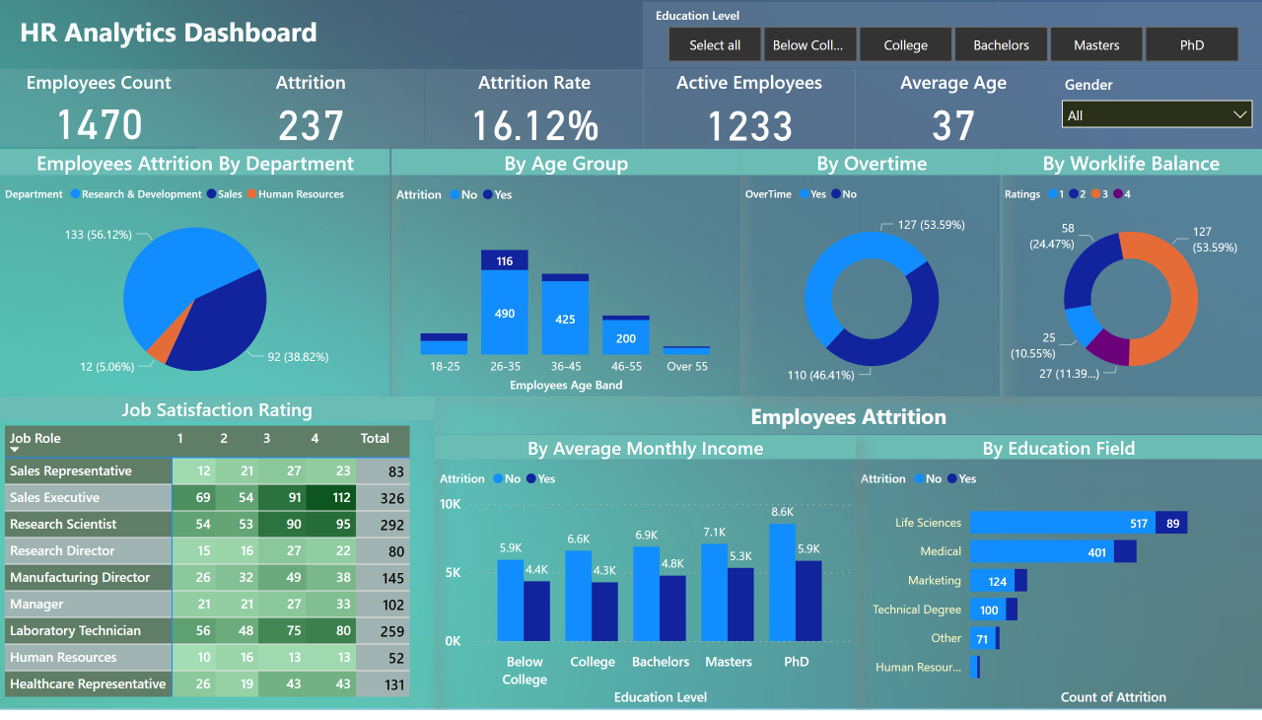

The dashboard page shown, as its layout file describes it:
{"tool":"powerbi","page":{"name":"Page 1","canvas":[1280,720],"ordinal":0},"visuals":[{"type":"card","title":"Employees Count","fields":{"Values":["CountNonNull(WA_Fn-UseC_-HR-Employee-Attrition-clean.Gender)"]},"box":[0,69.9,200.2,78.4],"z":0},{"type":"card","title":"Attrition","fields":{"Values":["Sum(WA_Fn-UseC_-HR-Employee-Attrition-clean.Attrition Count)"]},"box":[200.2,69.9,230.4,80.8],"z":1000},{"type":"card","title":"Attrition Rate","fields":{"Values":["WA_Fn-UseC_-HR-Employee-Attrition-clean.Attrition Rate"]},"box":[430.6,69.9,221.9,80.8],"z":2000},{"type":"card","title":"Active Employees ","fields":{"Values":["WA_Fn-UseC_-HR-Employee-Attrition-clean.Active Employees"]},"box":[652.5,69.9,215.9,82],"z":3000},{"type":"card","title":"Average Age","fields":{"Values":["Avg(WA_Fn-UseC_-HR-Employee-Attrition-clean.Age)"]},"box":[867.1,69.9,200.2,80.8],"z":4000},{"type":"pieChart","title":"Employees Attrition By Department","fields":{"Category":["WA_Fn-UseC_-HR-Employee-Attrition-clean.Department"],"Y":["Sum(WA_Fn-UseC_-HR-Employee-Attrition-clean.Attrition Count)"],"Series":["WA_Fn-UseC_-HR-Employee-Attrition-clean.Department"]},"box":[0,151.1,395.6,251.4],"z":5000},{"type":"columnChart","title":"By Age Group","fields":{"Y":["Sum(WA_Fn-UseC_-HR-Employee-Attrition-clean.Employees Count)"],"Category":["WA_Fn-UseC_-HR-Employee-Attrition-clean.Employees Age Band"],"Series":["WA_Fn-UseC_-HR-Employee-Attrition-clean.Attrition"]},"box":[397,151.1,354.4,251.4],"z":6000},{"type":"pivotTable","title":"Job Satisfaction Rating","fields":{"Values":["Sum(WA_Fn-UseC_-HR-Employee-Attrition-clean.Employees Count)"],"Rows":["WA_Fn-UseC_-HR-Employee-Attrition-clean.JobRole"],"Columns":["WA_Fn-UseC_-HR-Employee-Attrition-clean.JobSatisfaction"]},"box":[0,402.5,441,317.3],"z":7000},{"type":"barChart","title":"By Education Field","fields":{"Category":["WA_Fn-UseC_-HR-Employee-Attrition-clean.EducationField"],"Series":["WA_Fn-UseC_-HR-Employee-Attrition-clean.Attrition"],"Y":["CountNonNull(WA_Fn-UseC_-HR-Employee-Attrition-clean.Attrition)"]},"box":[868.2,441,412.1,278.9],"z":8000},{"type":"textbox","box":[441,402.5,839.3,38.5],"z":9000},{"type":"textbox","box":[15,7.5,343.8,51.2],"z":10000},{"type":"slicer","title":"Education","fields":{"Values":["WA_Fn-UseC_-HR-Employee-Attrition-clean.Education Level"]},"box":[652.5,2.4,628.3,67.5],"z":11000},{"type":"clusteredColumnChart","title":"By Average Monthly Income","fields":{"Category":["WA_Fn-UseC_-HR-Employee-Attrition-clean.Education Level"],"Y":["Avg(WA_Fn-UseC_-HR-Employee-Attrition-clean.MonthlyIncome)"],"Series":["WA_Fn-UseC_-HR-Employee-Attrition-clean.Attrition"]},"box":[441,441,427.2,278.9],"z":12000},{"type":"slicer","title":"Average Age","fields":{"Values":["WA_Fn-UseC_-HR-Employee-Attrition-clean.Gender"]},"box":[1067.3,69.9,213.5,80.8],"z":13000},{"type":"donutChart","title":"By Overtime","fields":{"Category":["WA_Fn-UseC_-HR-Employee-Attrition-clean.OverTime"],"Y":["Sum(WA_Fn-UseC_-HR-Employee-Attrition-clean.Attrition Count)"],"Series":["WA_Fn-UseC_-HR-Employee-Attrition-clean.OverTime"]},"box":[751.4,150.8,266.5,250.9],"z":14000},{"type":"donutChart","title":"By Worklife Balance","fields":{"Category":["WA_Fn-UseC_-HR-Employee-Attrition-clean.WorkLifeBalance"],"Y":["Sum(WA_Fn-UseC_-HR-Employee-Attrition-clean.Attrition Count)"]},"box":[1014.3,150.8,266.5,250.9],"z":14001}]}

Visuals, with their boxes in screenshot pixels (x1, y1, x2, y2), scaled from the page's 1280x720 canvas onto the 1262x720 screenshot:
"Employees Count" card: crop(0, 70, 197, 148)
"Attrition" card: crop(197, 70, 425, 151)
"Attrition Rate" card: crop(425, 70, 643, 151)
"Active Employees " card: crop(643, 70, 856, 152)
"Average Age" card: crop(855, 70, 1052, 151)
"Employees Attrition By Department" pieChart: crop(0, 151, 390, 402)
"By Age Group" columnChart: crop(391, 151, 741, 402)
"Job Satisfaction Rating" pivotTable: crop(0, 402, 435, 719)
"By Education Field" barChart: crop(856, 441, 1261, 719)
textbox: crop(435, 402, 1261, 441)
textbox: crop(15, 8, 354, 59)
"Education" slicer: crop(643, 2, 1261, 70)
"By Average Monthly Income" clusteredColumnChart: crop(435, 441, 856, 719)
"Average Age" slicer: crop(1052, 70, 1261, 151)
"By Overtime" donutChart: crop(741, 151, 1004, 402)
"By Worklife Balance" donutChart: crop(1000, 151, 1261, 402)
